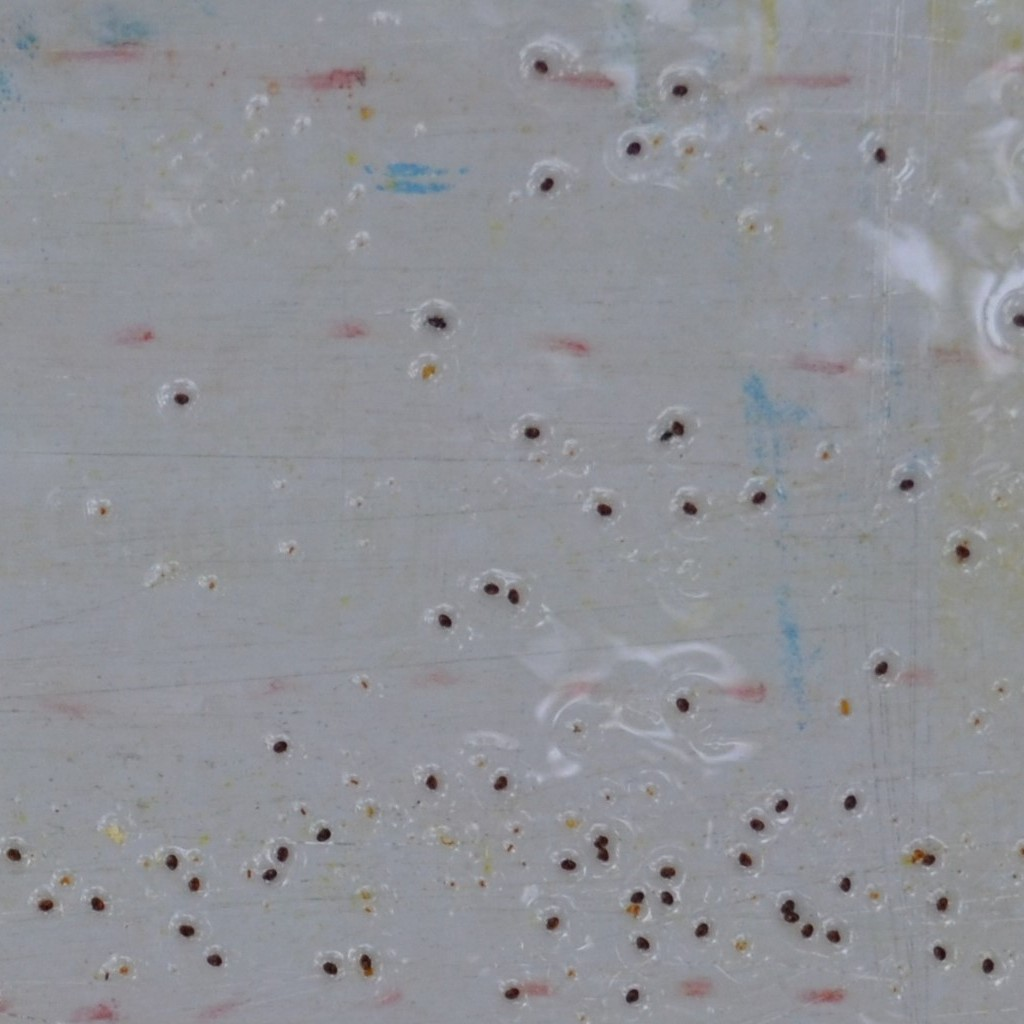varroa: (771, 795, 794, 817), (425, 312, 449, 333), (746, 487, 770, 507), (505, 582, 523, 608), (529, 55, 551, 76), (163, 850, 181, 875), (692, 917, 709, 943), (897, 475, 918, 496), (777, 894, 798, 915), (171, 387, 191, 409), (481, 580, 503, 600), (929, 942, 950, 962), (522, 423, 542, 444), (657, 888, 677, 909), (953, 539, 972, 561), (436, 609, 455, 631), (491, 772, 510, 794), (871, 144, 889, 167), (673, 692, 691, 715), (544, 913, 562, 936), (748, 814, 767, 835), (737, 849, 755, 871), (593, 499, 615, 517), (33, 897, 55, 915), (933, 892, 950, 915), (424, 771, 440, 795), (681, 499, 701, 518), (205, 949, 225, 968), (320, 959, 341, 977), (538, 173, 555, 195), (558, 855, 580, 872), (623, 139, 642, 158), (658, 863, 679, 880), (671, 417, 687, 439), (919, 849, 938, 867), (825, 927, 843, 946), (591, 832, 610, 850), (314, 826, 332, 845), (670, 80, 690, 97), (842, 791, 859, 811), (979, 955, 995, 976), (357, 950, 373, 971), (274, 843, 290, 864), (873, 658, 891, 676), (633, 932, 651, 950), (623, 986, 641, 1004), (261, 867, 279, 885), (89, 895, 107, 913), (178, 922, 197, 939), (837, 874, 853, 894), (798, 921, 814, 941), (628, 890, 649, 905), (502, 986, 523, 1001), (187, 874, 201, 896), (594, 847, 611, 865), (270, 739, 289, 755), (5, 846, 22, 862), (781, 910, 800, 924), (657, 428, 673, 443), (1011, 310, 1023, 329)
